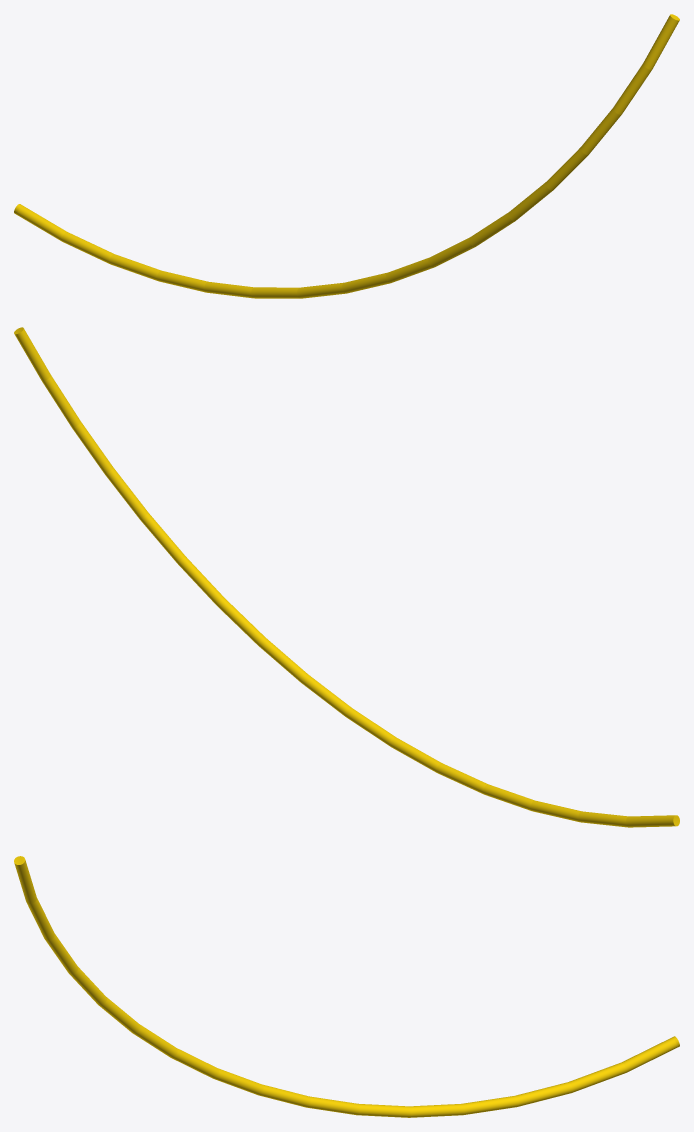
Rendered from Event_421127236_track_9.fbx.
3 renders of one model, top to bottom at view 1: azimuth 30°, elevation 25°; view 2: azimuth 210°, elevation 25°; view 3: azimuth 270°, elevation 25°, orthographic. The views are drawn at different scales.
Parts seen in each view (by area): view 1: Model; view 2: Model; view 3: Model.
Part boxes in pixels (bbox=[...]): Model: bbox=[14, 14, 679, 298]; Model: bbox=[14, 327, 679, 827]; Model: bbox=[14, 856, 679, 1117].
Bounding box in the file's own units: 1.44 × 1.48 × 2.3.
